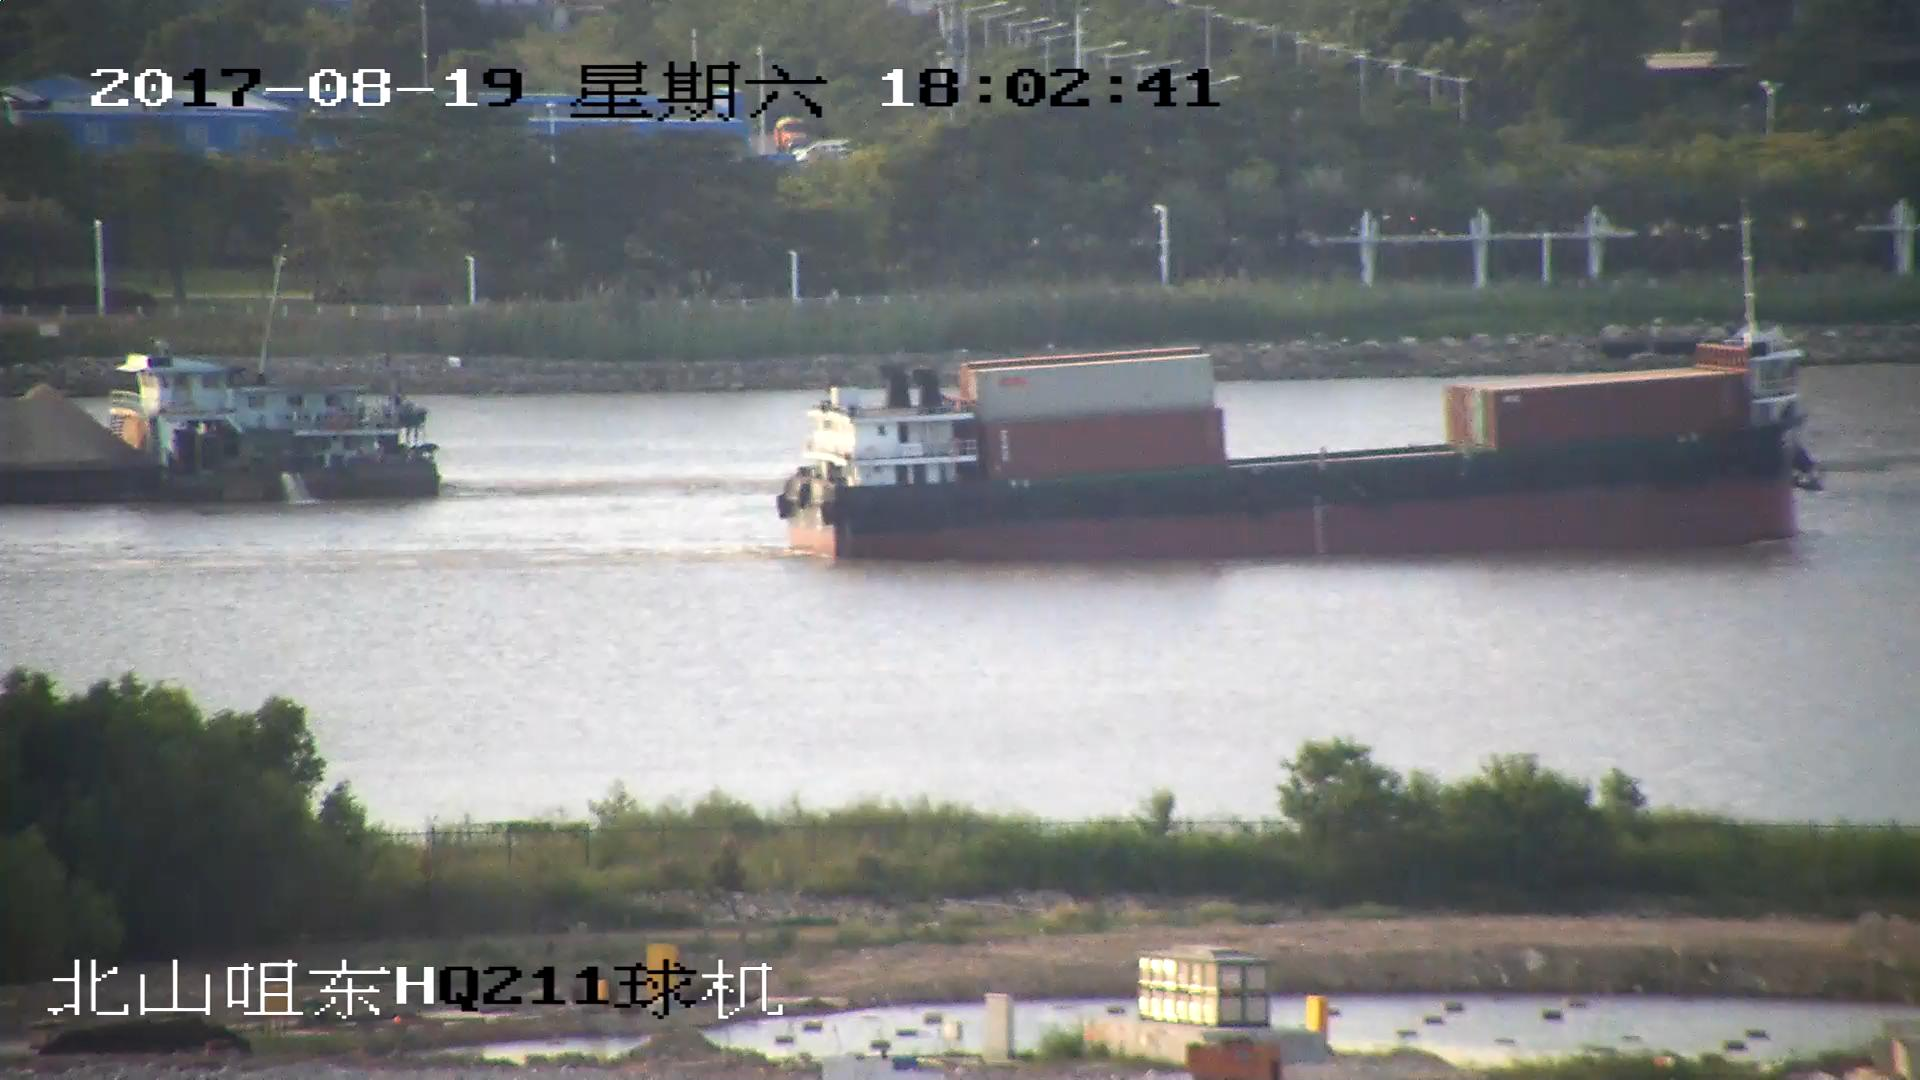container ship: (778, 275, 1825, 569)
ore carrier: (1, 342, 450, 507)
